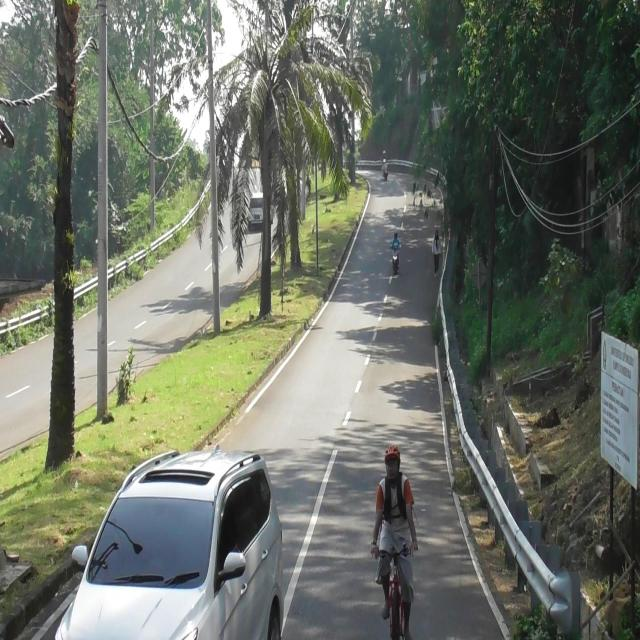motorcycle: (392, 246, 400, 273), (382, 158, 389, 181)
person: (392, 232, 402, 250), (382, 150, 388, 162)
rider_region: (391, 226, 401, 274), (382, 148, 389, 184)
